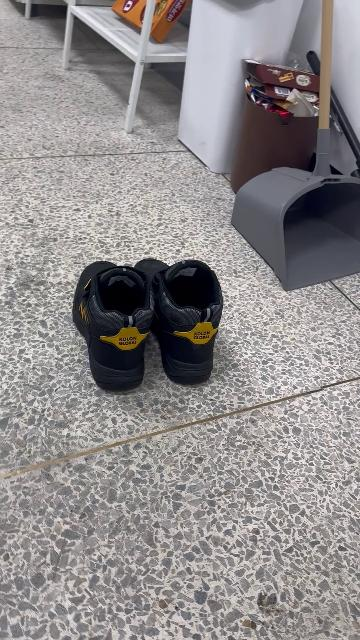shoe_worn: (135, 257, 226, 384), (77, 259, 158, 391)
